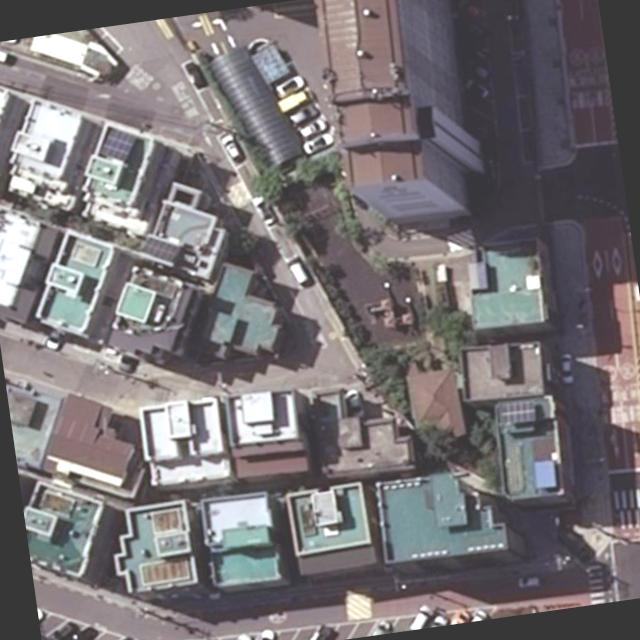solar: (96, 120, 143, 164), (140, 231, 187, 268), (498, 398, 540, 427)
